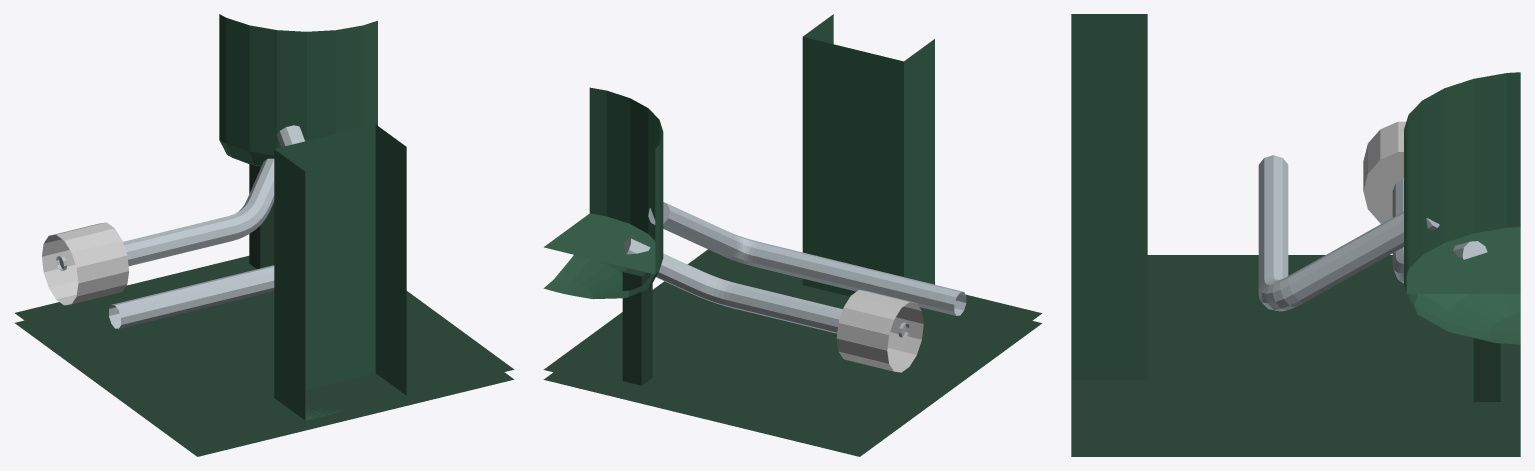
File: cell_8.obj
3 views of the same model, side by side, from view 1: azimuth 30°, elevation 25°; view 2: azimuth 150°, elevation 25°; view 3: azimuth 270°, elevation 25° (orthographic). The views are drawn at different scales.
Bounding box in the file's own units: 1 × 0.78 × 1.
